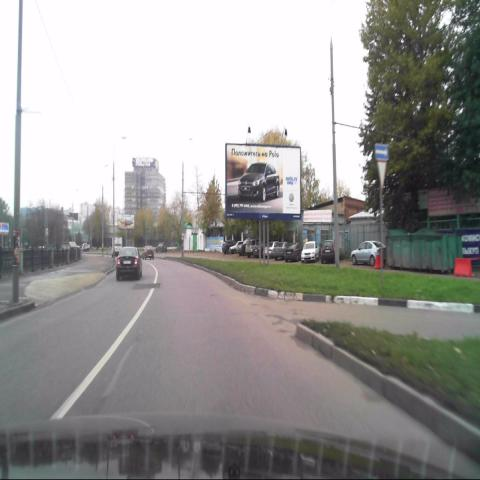5_7_1: (374, 142, 389, 160)
